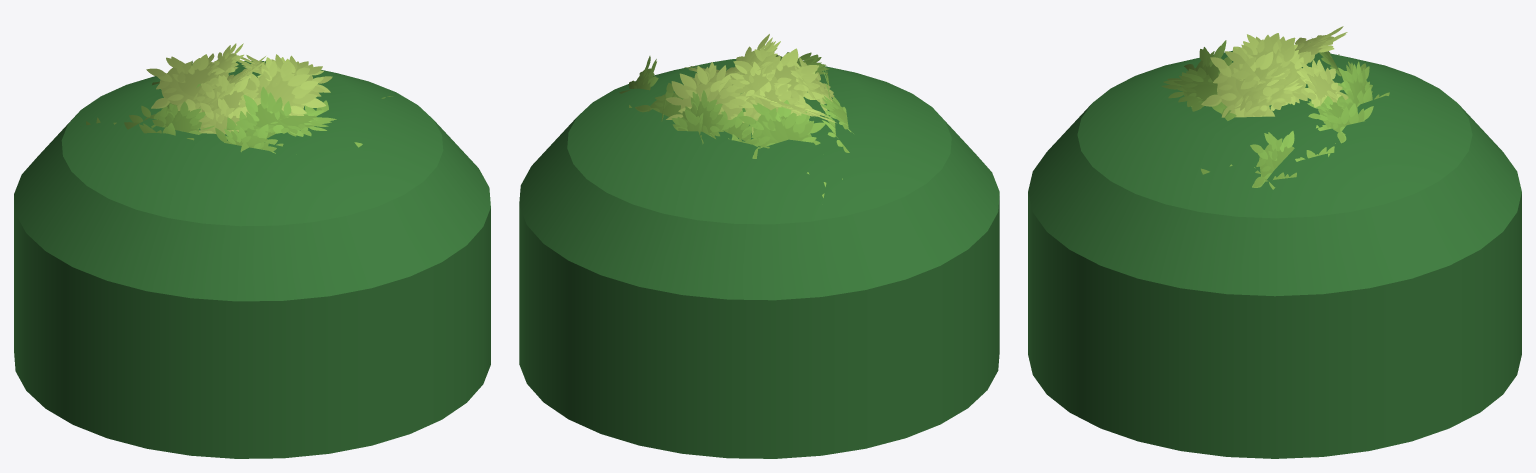
File: shrub_round.glb
3 renders of one model, left to right at view 1: azimuth 30°, elevation 25°; view 2: azimuth 150°, elevation 25°; view 3: azimuth 270°, elevation 25°, orthographic. The views are drawn at different scales.
Parts seen in each view (by area): view 1: body; view 2: body; view 3: body.
Part boxes in pixels (<box>): body: <box>14,43,490,458</box>; body: <box>519,34,999,458</box>; body: <box>1028,26,1521,458</box>.
Bounding box in the file's own units: 1.1 × 0.82 × 1.1.
Materials: 2 (1 with a texture image).
